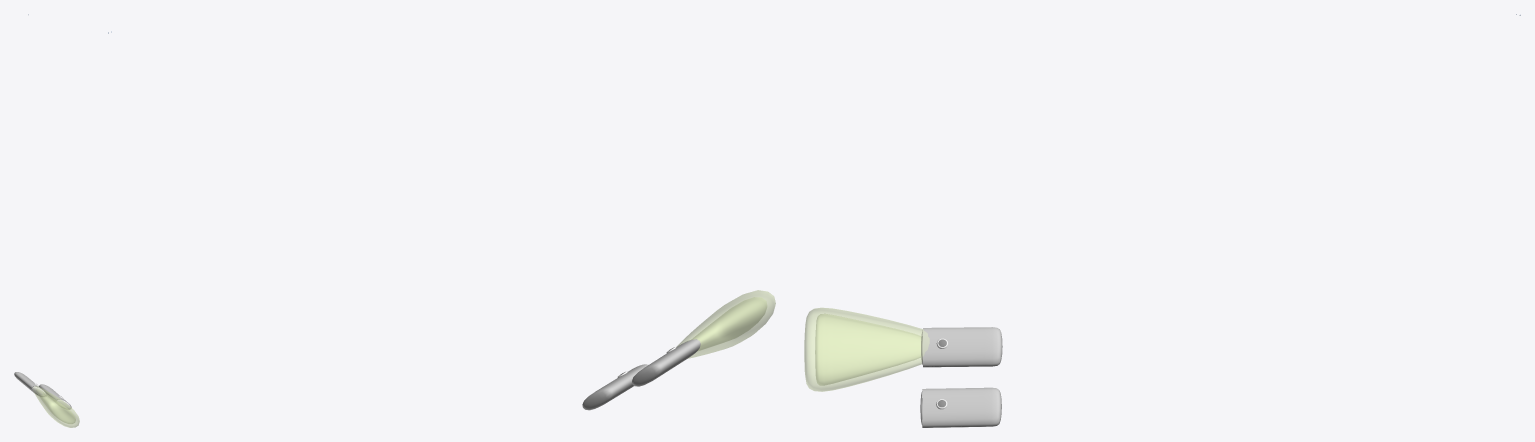
File: flash_light_2.fbx
3 views of the same model, side by side, from view 1: azimuth 30°, elevation 25°; view 2: azimuth 150°, elevation 25°; view 3: azimuth 270°, elevation 25° (orthographic). The views are drawn at different scales.
Visible parts, largest first — view 1: flash_light_2; view 2: flash_light_2; view 3: flash_light_2.
Part boxes in pixels (x1=…): flash_light_2: x1=14, y1=14, x2=79, y2=427; flash_light_2: x1=108, y1=31, x2=775, y2=410; flash_light_2: x1=804, y1=14, x2=1520, y2=427.
Size of the model in its own units: 5839 by 9220 by 11536.
